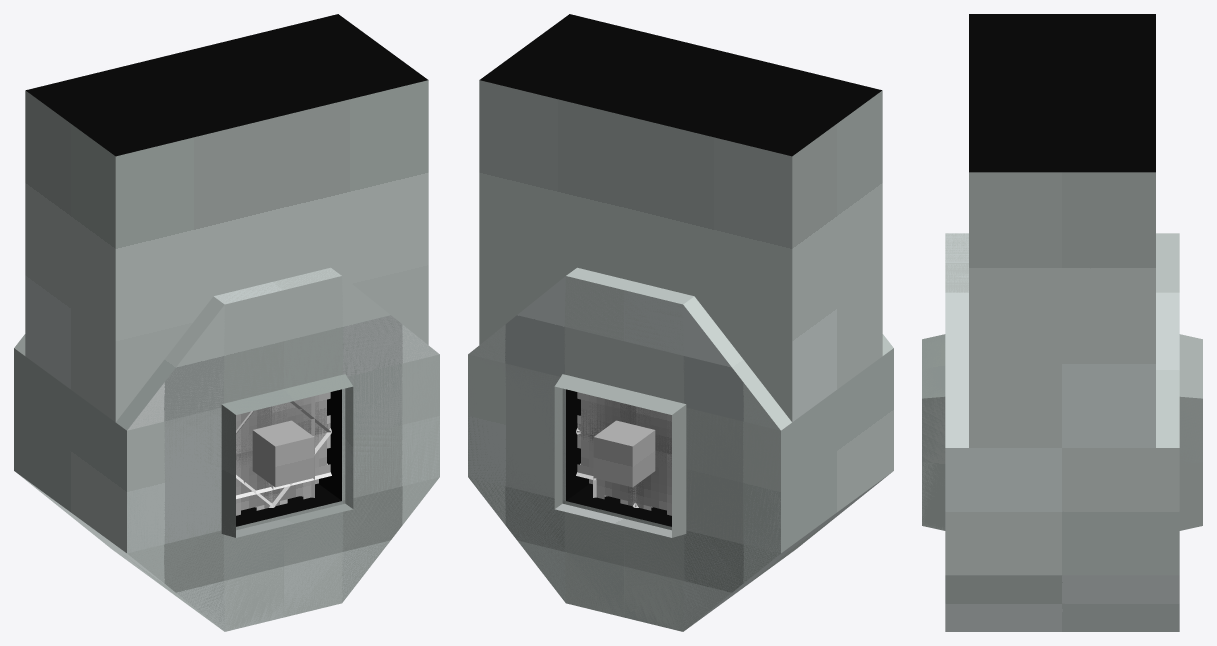
The model's file is turbo.obj.
3 views of the same model, side by side, from view 1: azimuth 30°, elevation 25°; view 2: azimuth 150°, elevation 25°; view 3: azimuth 270°, elevation 25° (orthographic). The views are drawn at different scales.
Parts seen in each view (by area): view 1: turbo_mirrored, turbo, turbine, turbine_motionblur_mirrored_translucent, turbine_motionblur_translucent, turbine_mirrored; view 2: turbo_mirrored, turbo, turbine_motionblur_mirrored_translucent, turbine, turbine_motionblur_translucent, turbine_mirrored; view 3: turbo_mirrored, turbo.
Part boxes in pixels (x1=…): turbo_mirrored: x1=14, y1=14, x2=439, y2=631; turbo: x1=25, y1=52, x2=439, y2=630; turbine: x1=236, y1=396, x2=331, y2=507; turbine_motionblur_mirrored_translucent: x1=236, y1=392, x2=330, y2=510; turbine_motionblur_translucent: x1=236, y1=397, x2=330, y2=515; turbine_mirrored: x1=236, y1=409, x2=331, y2=507; turbo_mirrored: x1=468, y1=14, x2=893, y2=631; turbo: x1=468, y1=52, x2=882, y2=631; turbine_motionblur_mirrored_translucent: x1=577, y1=395, x2=671, y2=515; turbine: x1=576, y1=420, x2=655, y2=507; turbine_motionblur_translucent: x1=577, y1=392, x2=671, y2=510; turbine_mirrored: x1=576, y1=421, x2=654, y2=507; turbo_mirrored: x1=922, y1=93, x2=1202, y2=631; turbo: x1=922, y1=14, x2=1202, y2=530.
Size of the model in its own units: 0.125 by 0.1875 by 0.0938.
